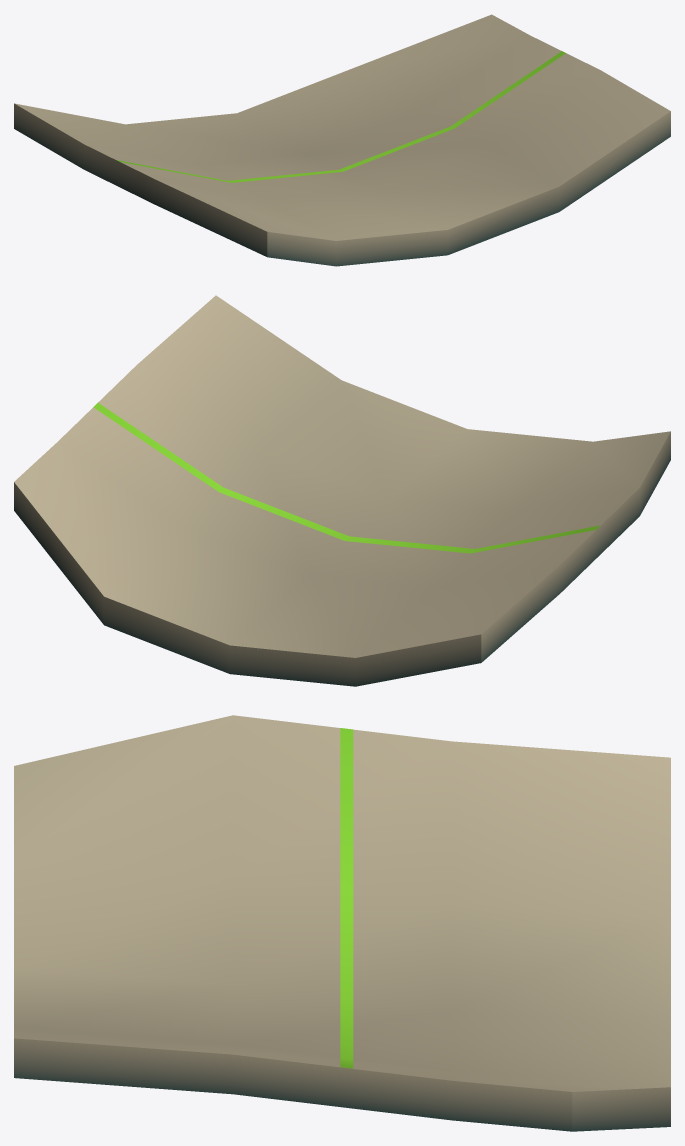
File: shell_saddle.glb
The picture shows the model from 3 angles, top to bottom: view 1: azimuth 30°, elevation 25°; view 2: azimuth 150°, elevation 25°; view 3: azimuth 270°, elevation 25°; orthographic projection. The views are drawn at different scales.
Parts seen in each view (by area): view 1: Saddle; view 2: Saddle; view 3: Saddle.
Boxes of the visible parts, left/top/right/bottom form: Saddle: left=14, top=14, right=670, bottom=266; Saddle: left=14, top=295, right=670, bottom=686; Saddle: left=14, top=715, right=670, bottom=1131.
Bounding box in the file's own units: 2.2 × 0.6 × 1.8.
